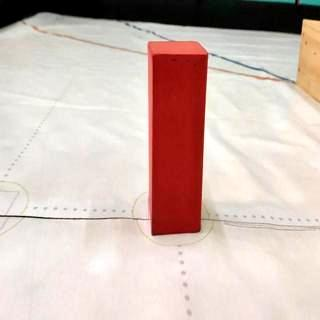redbox: (146, 41, 208, 235)
